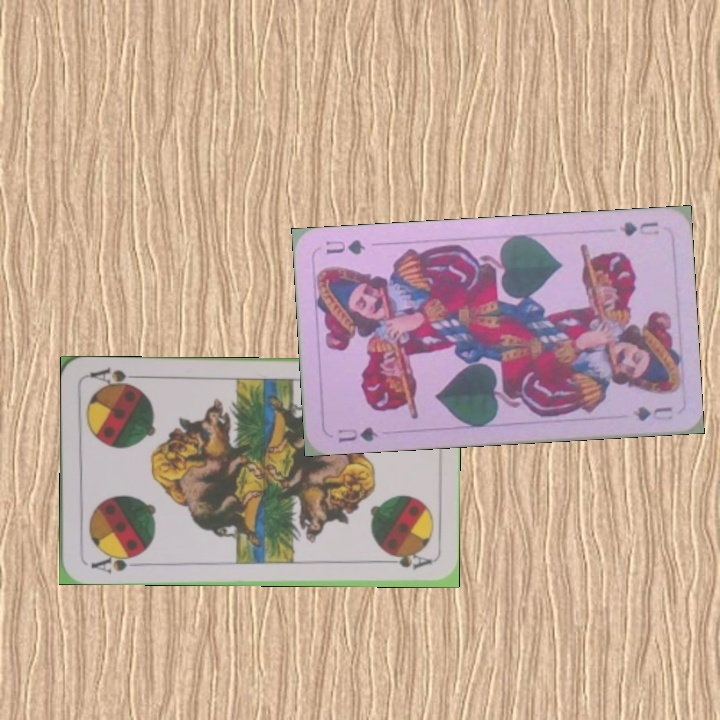GU: (334, 423, 381, 445), (616, 217, 661, 239)
SA: (87, 549, 143, 576)
